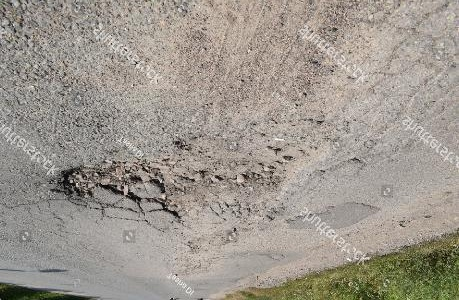pothole: (49, 158, 178, 223)
